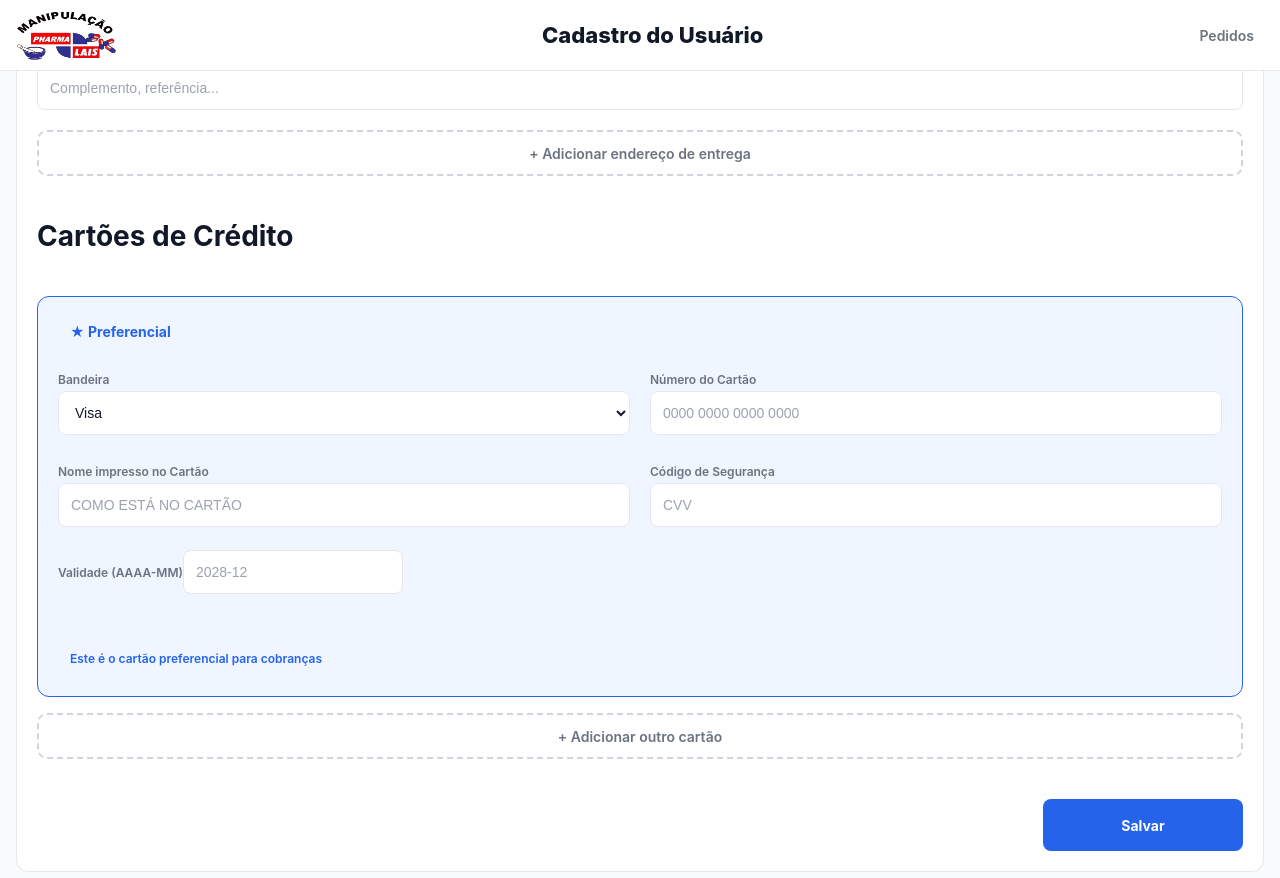
Test: Cadastro de cliente - front › mostra as validações obrigatórias ao tentar salvar vazio
(page scrolled)
Step 1. Click the button "Salvar" → (1143, 825), box top-left (1043, 799), bottom-right (1243, 851)
(page scrolled)
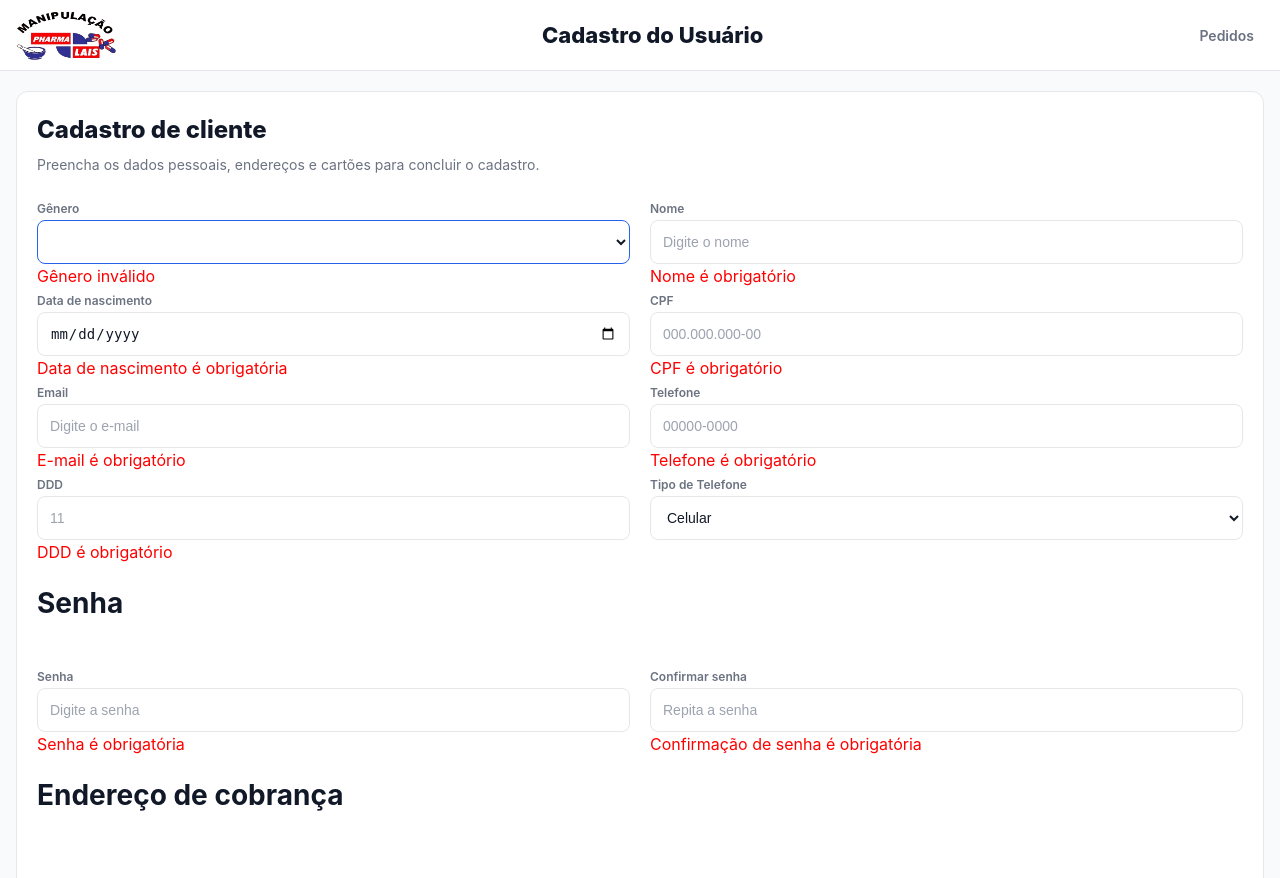
Now the text "Nome é obrigatório" is shown, box top-left (650, 266), bottom-right (796, 286)
Now the text "E-mail é obrigatório" is shown, box top-left (37, 450), bottom-right (186, 470)
Now the text "CPF é obrigatório" is shown, box top-left (650, 358), bottom-right (782, 378)
